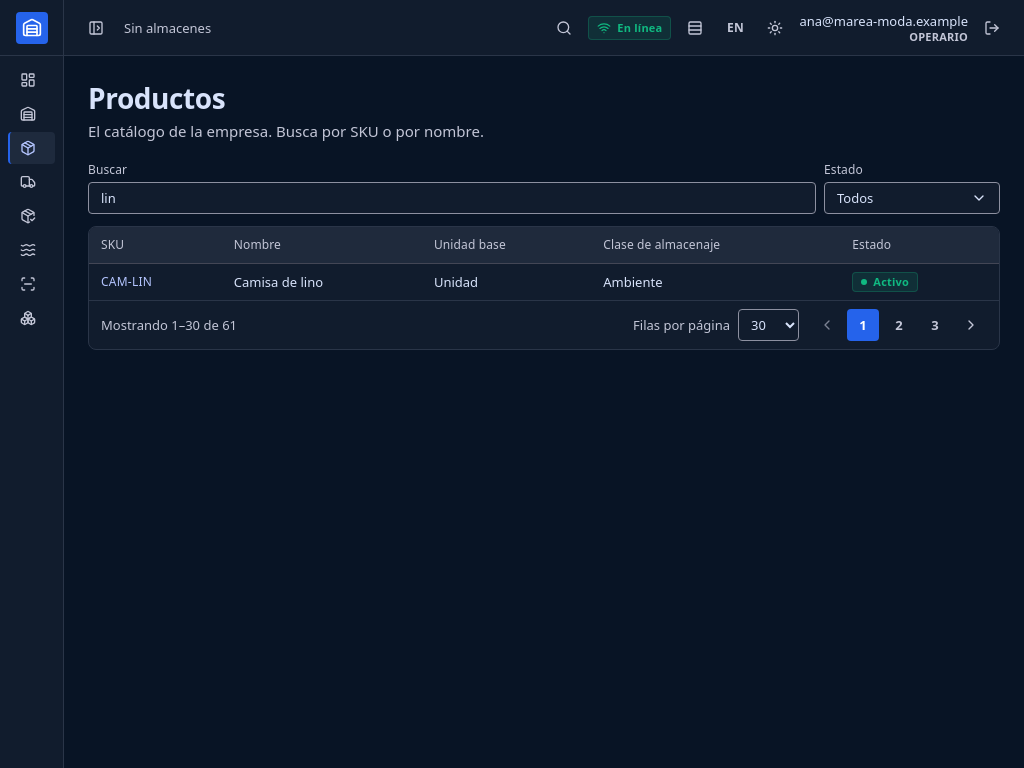
the catalogue › keeps the search in the address and asks for the page that is picked
Expected: the text "Camisa de lino" is shown, [222, 264, 422, 300]
Expected: the search field labelled "Buscar" holds "lin", [88, 182, 816, 214]
Click the button named "Página 2". click: click(899, 324)
box: [883, 308, 915, 340]
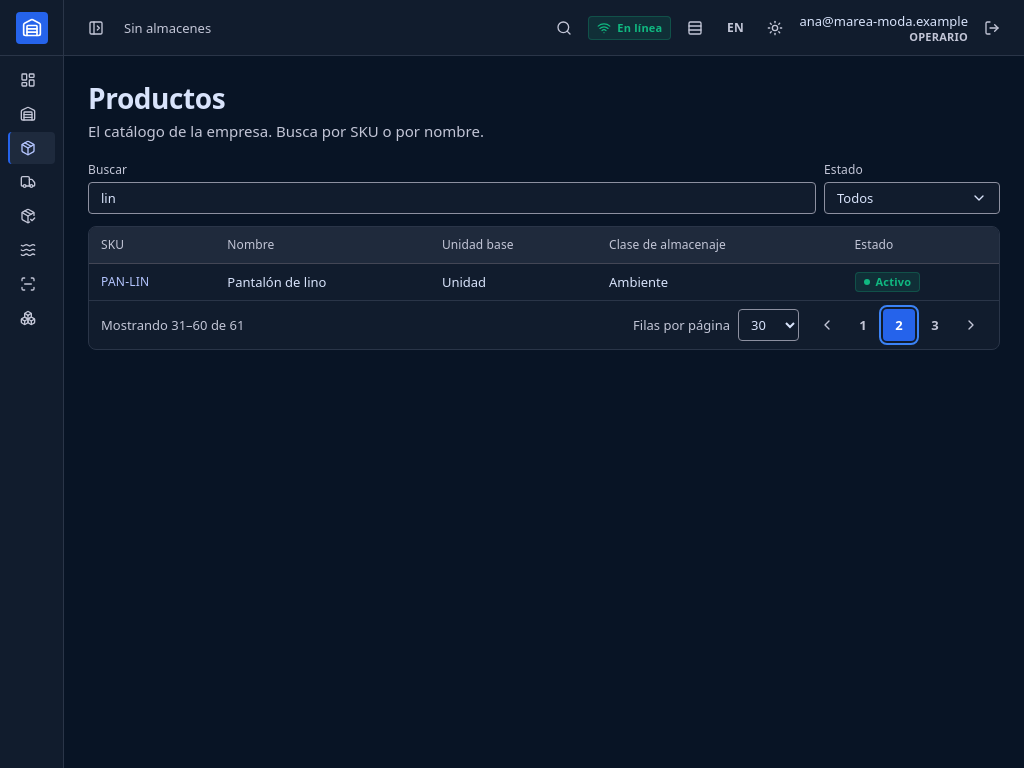
Result: the text "Pantalón de lino" is shown at [215, 264, 430, 300]
